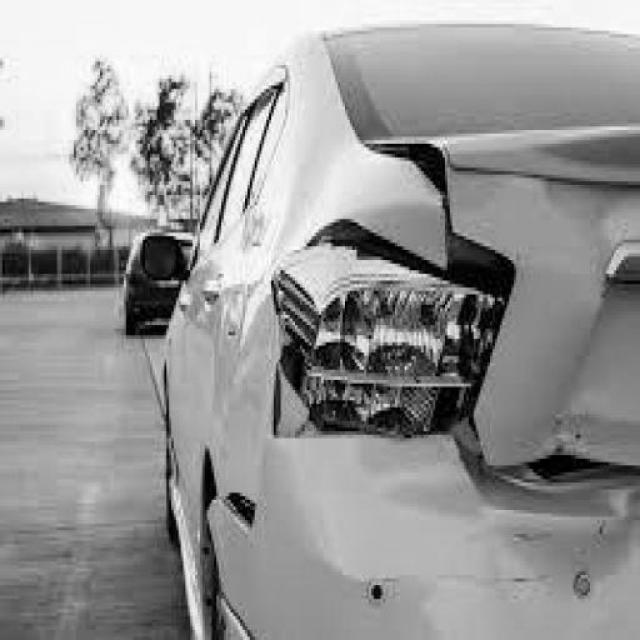crush: (268, 122, 640, 623)
shatter: (265, 229, 495, 432)
